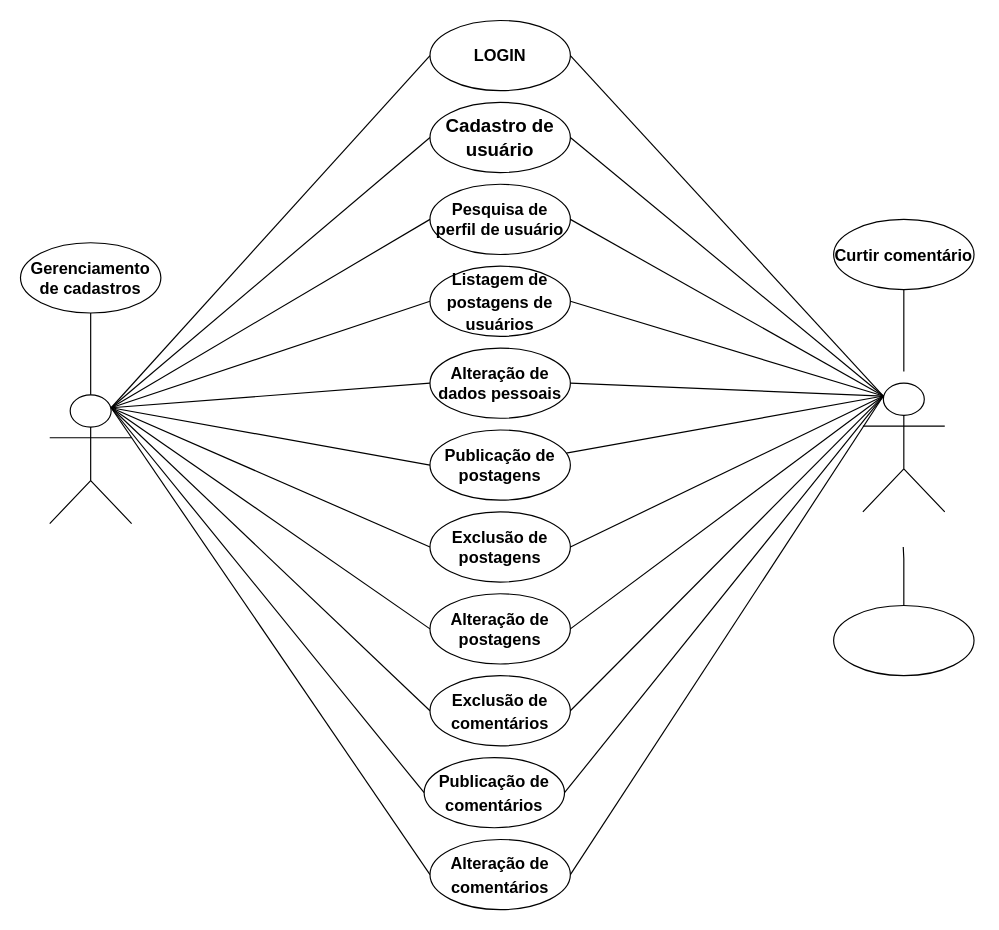
Some shapes in this 999 by 930 pixel diagram are drawn without their labels. Here are the shapes that lost their labels. From the top down, the centre of each, then its label:
At pixel 90 459: "Administrador".
At pixel 903 447: "Usuário comum".
At pixel 903 640: "Curtir postagem".
